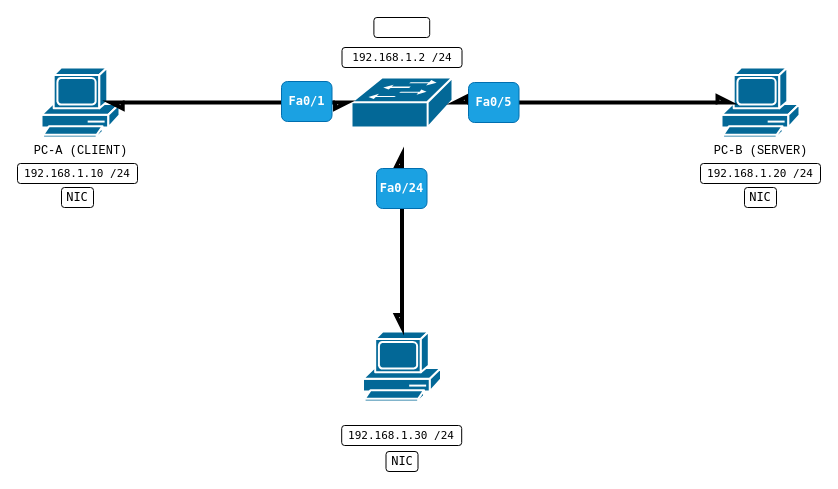
Some shapes in this 838 by 489 pixel diagram are drawn without their labels. The shapes that lost their labels are listed below. From the top down, each one's centre as x and y in pixels, then its label:
[401,27]: VLAN 1
[401,102]: SWITCH A
[402,366]: PC-C (MONITOR)
